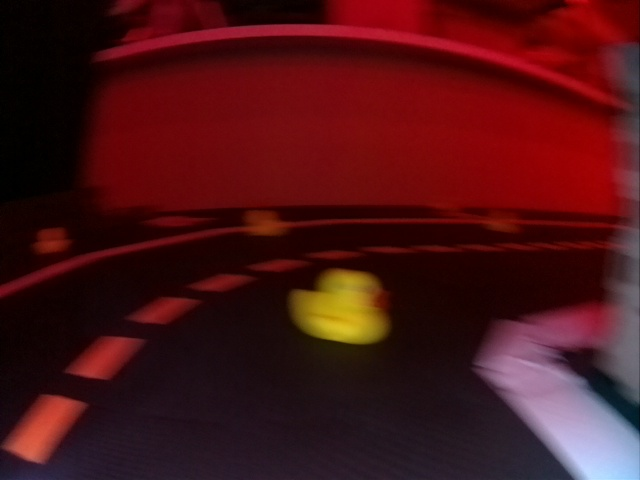Duckie: (288, 266, 383, 341), (249, 208, 284, 238), (34, 229, 69, 257)
